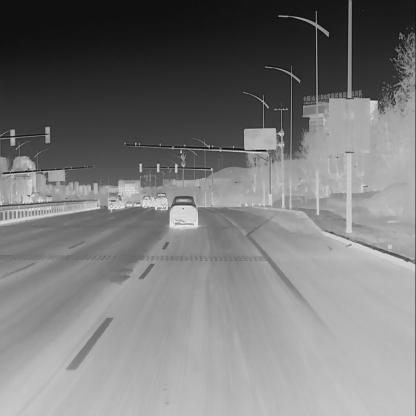car: (169, 195, 198, 227), (154, 192, 169, 211), (106, 189, 119, 210), (115, 191, 124, 209), (141, 195, 152, 208), (125, 200, 133, 208), (133, 200, 141, 208)
truck: (29, 190, 48, 212)
